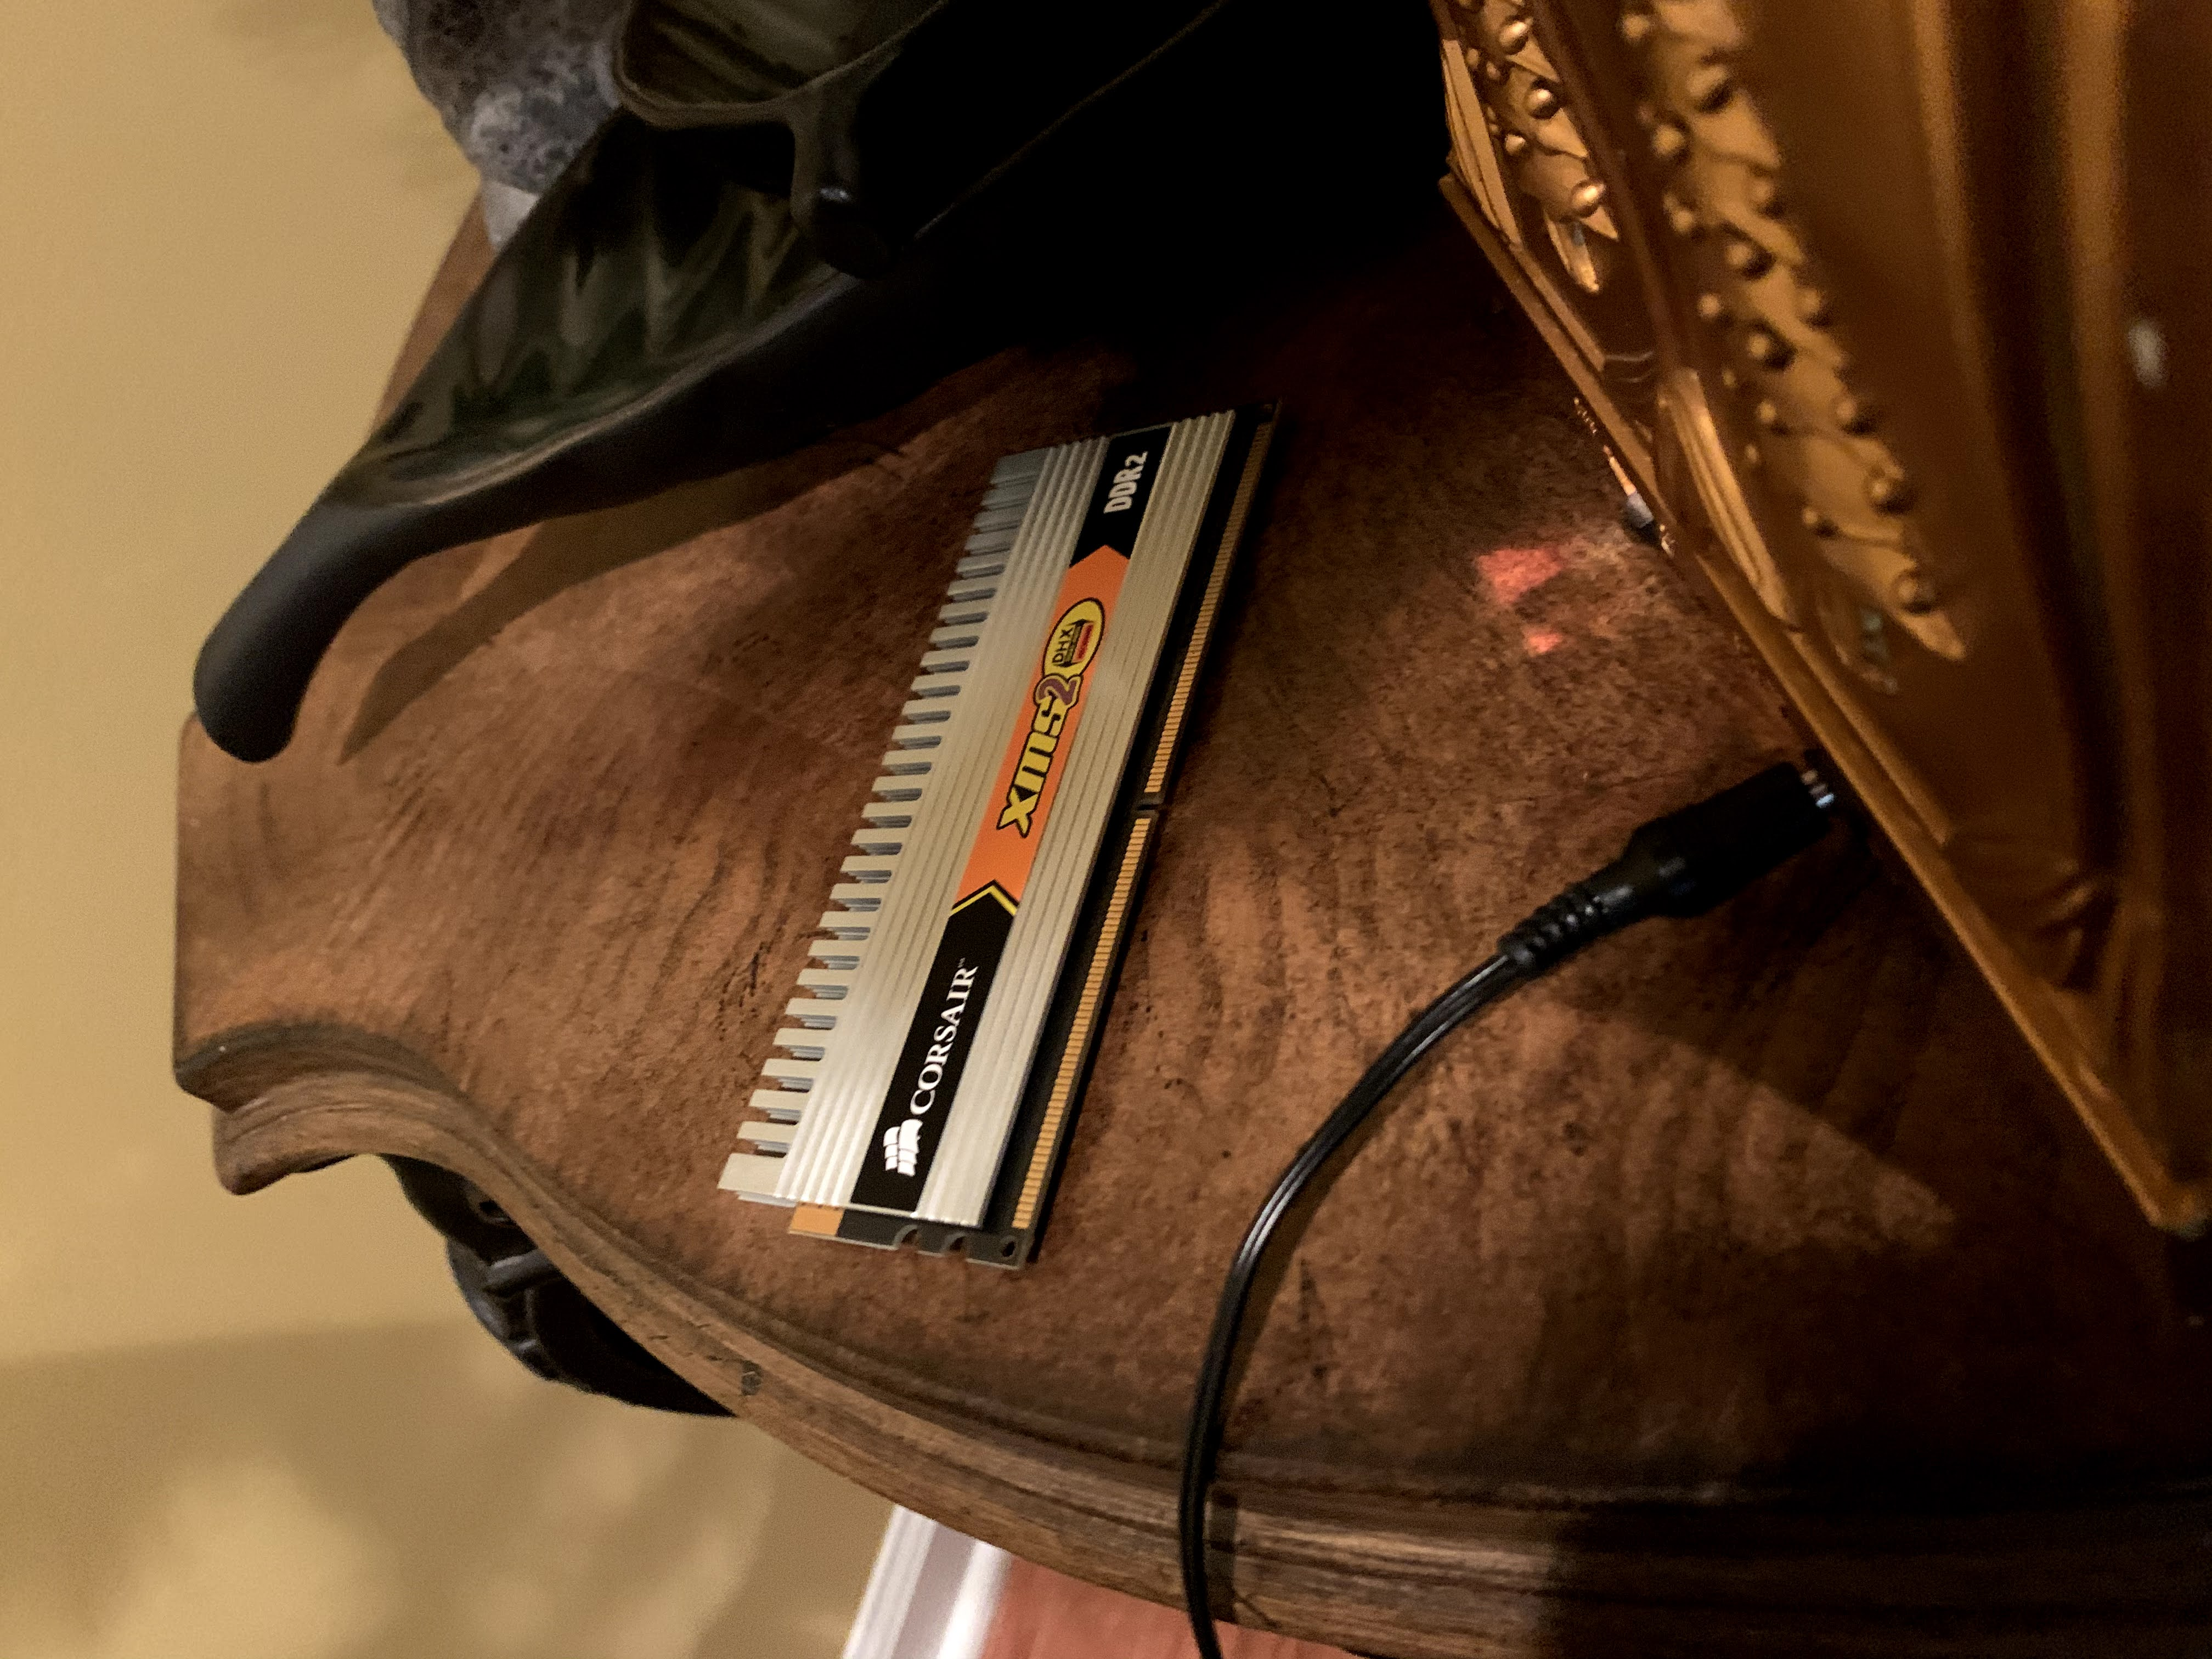Space-debris-medium: (631, 349, 1338, 1298)
